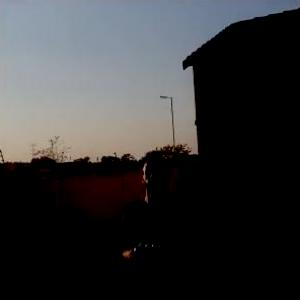follow: (117, 151, 204, 299)
